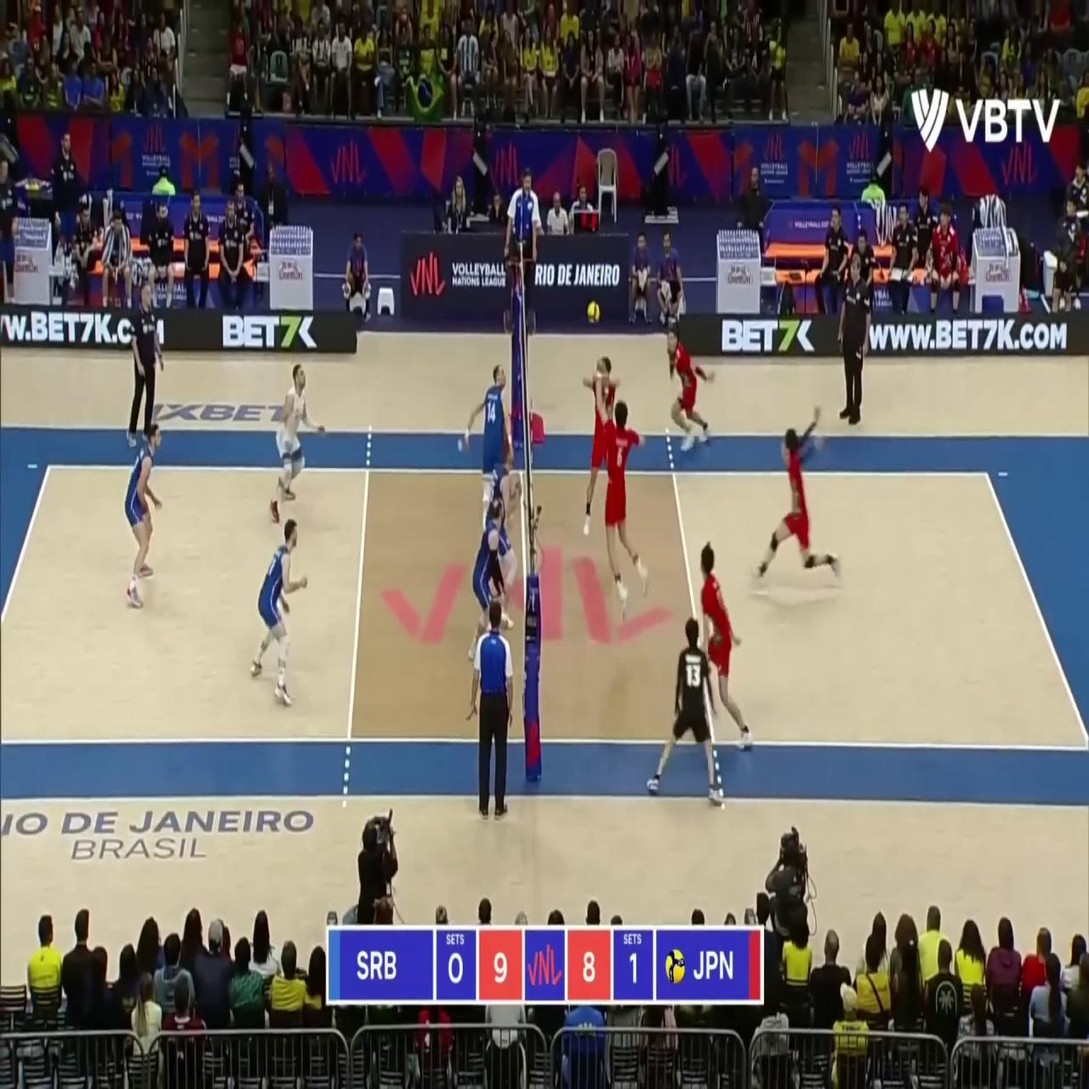ball: (586, 302, 600, 324)
